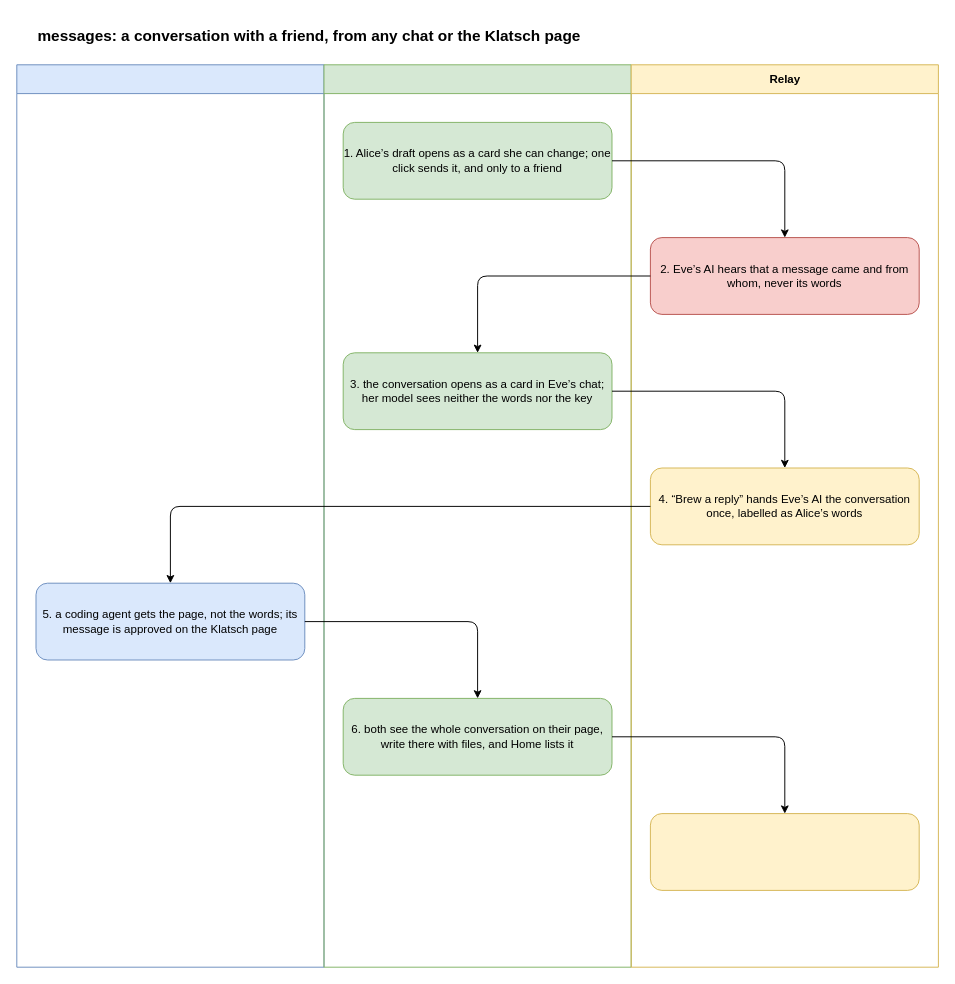
The diagram is 955 pixels wide and 984 high, and some of its shapes have lost their labels. Each missing label, with the box of its shape:
7. ending the friendship takes the conversation and its files, for both: (649, 813, 919, 890)
Agent (MCP client): (16, 64, 324, 967)
Person (browser): (323, 64, 631, 967)
